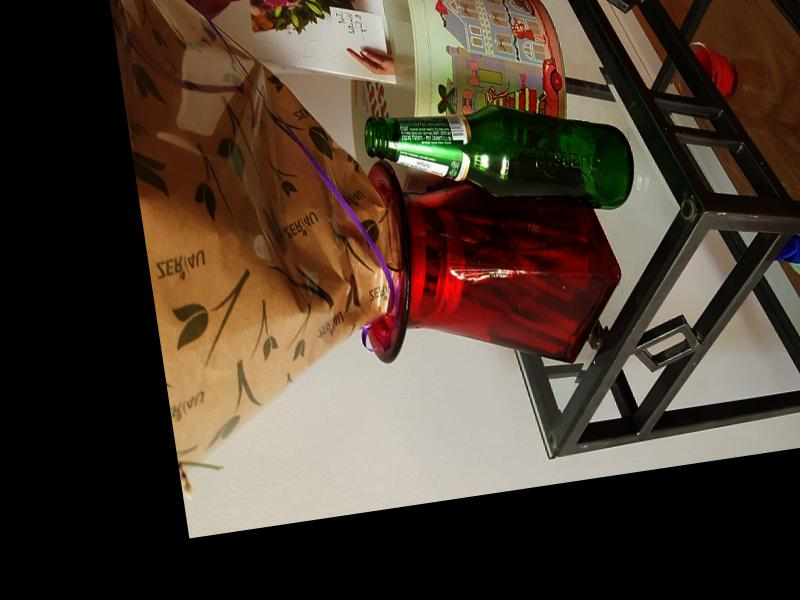Beer: (360, 82, 640, 242)
